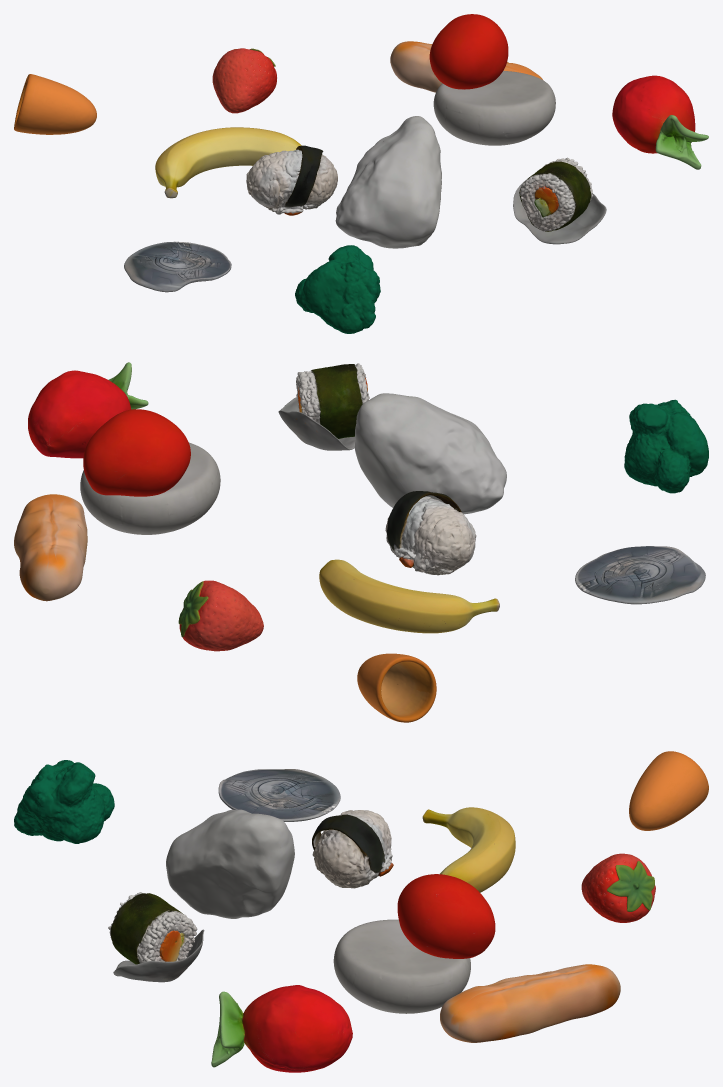
The model's file is simfoundry.glb.
3 views of the same model, one above another, from view 1: azimuth 30°, elevation 25°; view 2: azimuth 150°, elevation 25°; view 3: azimuth 270°, elevation 25° (orthographic). The views are drawn at different scales.
Parts seen in each view (by area): view 1: white_round_disc_dxqbho_link_iter_10_canonical_mesh_obj, white_round_disc_gxykrd_link_iter_11_canonical_mesh_obj, red_plush_strawberry_ewpltj_link_iter_3_canonical_mesh_obj, green_broccoli_dijzei_link_iter_1_canonical_mesh_obj, yellow_banana_gtippn_link_iter_4_canonical_mesh_obj, sushi_roll_teibte_link_iter_2_canonical_mesh_obj, red_toy_tomato_gqijfr_link_iter_6_canonical_mesh_obj, clear_plastic_lid_dbcokd_link_iter_7_canonical_mesh_obj, sushi_roll_refpcg_link_iter_0_canonical_mesh_obj, orange_cone_wjmuea_link_iter_12_canonical_mesh_obj, red_toy_strawberry_vrkefe_link_iter_8_canonical_mesh_obj, bread_roll_secush_link_iter_5_canonical_mesh_obj (+1 smaller); view 2: white_round_disc_dxqbho_link_iter_10_canonical_mesh_obj, red_toy_tomato_gqijfr_link_iter_6_canonical_mesh_obj, yellow_banana_gtippn_link_iter_4_canonical_mesh_obj, red_plush_strawberry_ewpltj_link_iter_3_canonical_mesh_obj, bread_roll_secush_link_iter_5_canonical_mesh_obj, white_round_disc_gxykrd_link_iter_11_canonical_mesh_obj, green_broccoli_dijzei_link_iter_1_canonical_mesh_obj, sushi_roll_teibte_link_iter_2_canonical_mesh_obj, clear_plastic_lid_dbcokd_link_iter_7_canonical_mesh_obj, red_toy_strawberry_vrkefe_link_iter_8_canonical_mesh_obj, orange_cone_wjmuea_link_iter_12_canonical_mesh_obj, sushi_roll_refpcg_link_iter_0_canonical_mesh_obj (+1 smaller); view 3: white_round_disc_dxqbho_link_iter_10_canonical_mesh_obj, bread_roll_secush_link_iter_5_canonical_mesh_obj, red_plush_strawberry_ewpltj_link_iter_3_canonical_mesh_obj, white_round_disc_gxykrd_link_iter_11_canonical_mesh_obj, red_toy_tomato_gqijfr_link_iter_6_canonical_mesh_obj, green_broccoli_dijzei_link_iter_1_canonical_mesh_obj, sushi_roll_teibte_link_iter_2_canonical_mesh_obj, clear_plastic_lid_dbcokd_link_iter_7_canonical_mesh_obj, sushi_roll_refpcg_link_iter_0_canonical_mesh_obj, yellow_banana_gtippn_link_iter_4_canonical_mesh_obj, orange_cone_wjmuea_link_iter_12_canonical_mesh_obj, red_toy_strawberry_vrkefe_link_iter_8_canonical_mesh_obj (+1 smaller).
Part boxes in pixels (<box>): white_round_disc_dxqbho_link_iter_10_canonical_mesh_obj: <box>335,116,441,248</box>; white_round_disc_gxykrd_link_iter_11_canonical_mesh_obj: <box>433,71,555,145</box>; red_plush_strawberry_ewpltj_link_iter_3_canonical_mesh_obj: <box>612,75,708,169</box>; green_broccoli_dijzei_link_iter_1_canonical_mesh_obj: <box>295,245,380,333</box>; yellow_banana_gtippn_link_iter_4_canonical_mesh_obj: <box>155,127,301,198</box>; sushi_roll_teibte_link_iter_2_canonical_mesh_obj: <box>246,145,337,215</box>; red_toy_tomato_gqijfr_link_iter_6_canonical_mesh_obj: <box>429,14,508,89</box>; clear_plastic_lid_dbcokd_link_iter_7_canonical_mesh_obj: <box>124,241,231,292</box>; sushi_roll_refpcg_link_iter_0_canonical_mesh_obj: <box>519,157,593,231</box>; orange_cone_wjmuea_link_iter_12_canonical_mesh_obj: <box>14,74,96,134</box>; red_toy_strawberry_vrkefe_link_iter_8_canonical_mesh_obj: <box>212,48,276,113</box>; bread_roll_secush_link_iter_5_canonical_mesh_obj: <box>390,41,542,92</box>; white_round_disc_dxqbho_link_iter_10_canonical_mesh_obj: <box>354,393,506,514</box>; red_toy_tomato_gqijfr_link_iter_6_canonical_mesh_obj: <box>83,409,190,496</box>; yellow_banana_gtippn_link_iter_4_canonical_mesh_obj: <box>319,559,499,633</box>; red_plush_strawberry_ewpltj_link_iter_3_canonical_mesh_obj: <box>28,362,148,458</box>; bread_roll_secush_link_iter_5_canonical_mesh_obj: <box>14,494,87,601</box>; white_round_disc_gxykrd_link_iter_11_canonical_mesh_obj: <box>80,442,220,534</box>; green_broccoli_dijzei_link_iter_1_canonical_mesh_obj: <box>624,399,708,493</box>; sushi_roll_teibte_link_iter_2_canonical_mesh_obj: <box>385,491,476,575</box>; clear_plastic_lid_dbcokd_link_iter_7_canonical_mesh_obj: <box>575,546,705,604</box>; red_toy_strawberry_vrkefe_link_iter_8_canonical_mesh_obj: <box>178,580,263,651</box>; orange_cone_wjmuea_link_iter_12_canonical_mesh_obj: <box>357,653,436,722</box>; sushi_roll_refpcg_link_iter_0_canonical_mesh_obj: <box>296,363,369,438</box>; white_round_disc_dxqbho_link_iter_10_canonical_mesh_obj: <box>166,809,294,918</box>; bread_roll_secush_link_iter_5_canonical_mesh_obj: <box>440,964,620,1042</box>; red_plush_strawberry_ewpltj_link_iter_3_canonical_mesh_obj: <box>211,985,352,1072</box>; white_round_disc_gxykrd_link_iter_11_canonical_mesh_obj: <box>333,919,470,1013</box>; red_toy_tomato_gqijfr_link_iter_6_canonical_mesh_obj: <box>397,874,495,958</box>; green_broccoli_dijzei_link_iter_1_canonical_mesh_obj: <box>14,760,114,843</box>; sushi_roll_teibte_link_iter_2_canonical_mesh_obj: <box>312,810,393,888</box>; clear_plastic_lid_dbcokd_link_iter_7_canonical_mesh_obj: <box>218,769,340,821</box>; sushi_roll_refpcg_link_iter_0_canonical_mesh_obj: <box>108,892,197,964</box>; yellow_banana_gtippn_link_iter_4_canonical_mesh_obj: <box>422,807,515,892</box>; orange_cone_wjmuea_link_iter_12_canonical_mesh_obj: <box>629,751,708,830</box>; red_toy_strawberry_vrkefe_link_iter_8_canonical_mesh_obj: <box>581,853,655,922</box>.
Size of what is drawn, in the model's own units: 0.4661 by 0.0866 by 0.4401.
Materials: 13 (13 with a texture image).
